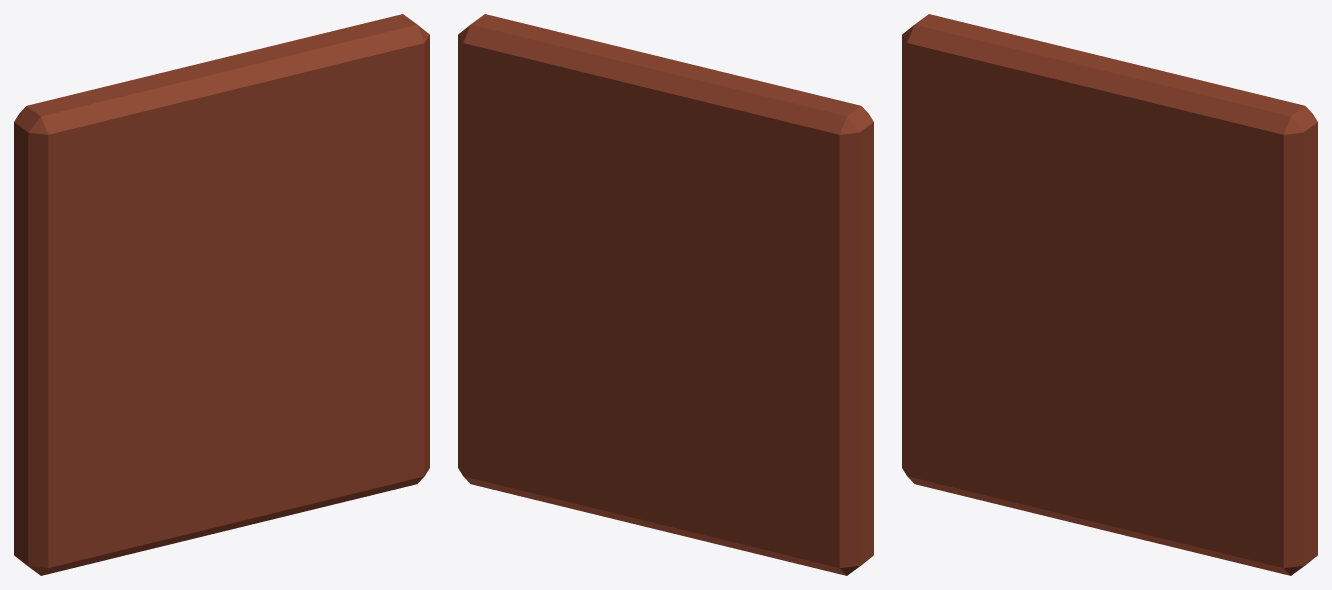
Rendered from binding-stamp-lod1.fbx.
3 views of the same model, side by side, from view 1: azimuth 30°, elevation 25°; view 2: azimuth 150°, elevation 25°; view 3: azimuth 330°, elevation 25° (orthographic).
Parts seen in each view (by area): view 1: Worn short binding marker; view 2: Worn short binding marker; view 3: Worn short binding marker.
Boxes of the visible parts, <box> form: Worn short binding marker: <box>14,14,429,575</box>; Worn short binding marker: <box>458,14,873,575</box>; Worn short binding marker: <box>902,14,1317,575</box>.
Size of the model in its own units: 3.2 by 3.5 by 0.4.
